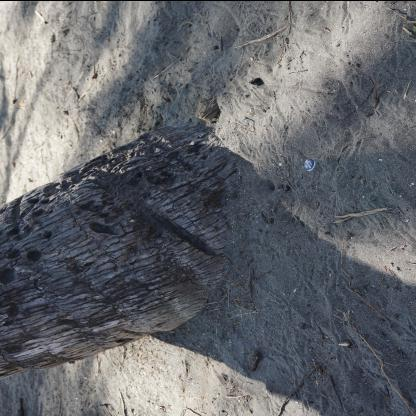metal: (303, 158, 319, 172)
